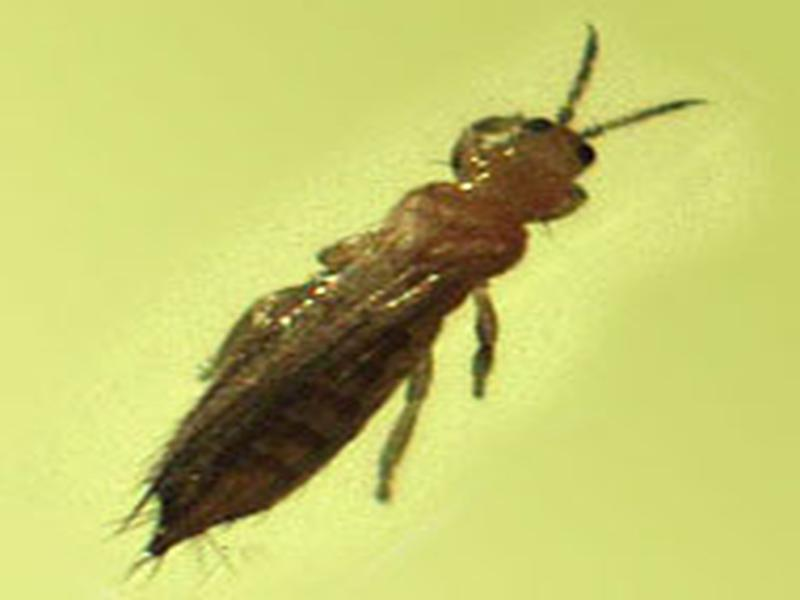Thrips: (113, 104, 632, 574)
